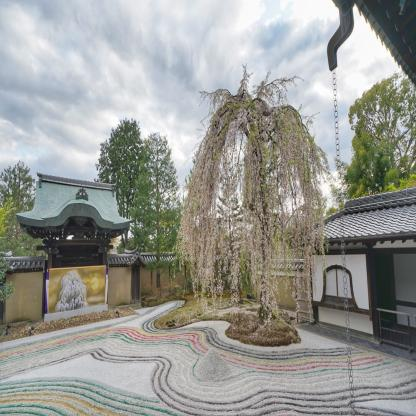ShidareZakura: (173, 61, 333, 344)
